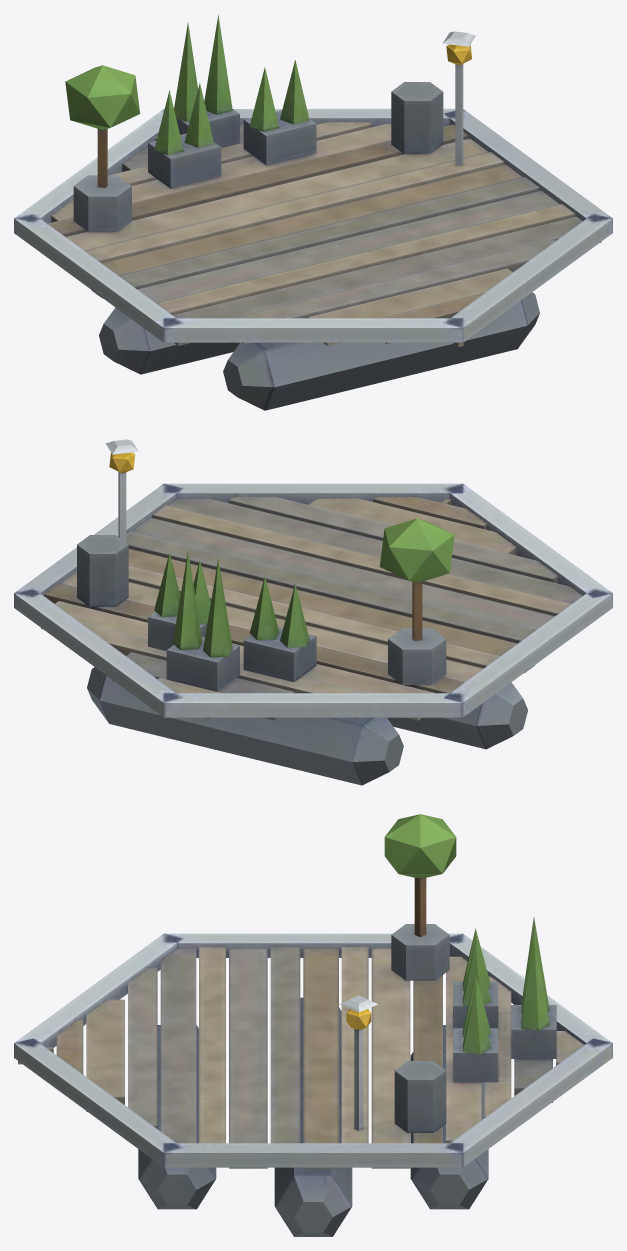
Rendered from raft-d-age20-lite.glb.
The picture shows the model from 3 angles, top to bottom: view 1: azimuth 30°, elevation 25°; view 2: azimuth 150°, elevation 25°; view 3: azimuth 270°, elevation 25°; orthographic projection.
Parts seen in each view (by area): view 1: raft-d-age20-lite; view 2: raft-d-age20-lite; view 3: raft-d-age20-lite.
Boxes of the visible parts, x1,y1,x2,y2 form: raft-d-age20-lite: (14, 15, 612, 410); raft-d-age20-lite: (14, 439, 612, 785); raft-d-age20-lite: (14, 814, 612, 1236).
Size of the model in its own units: 1.6 by 0.8744 by 1.85.
1 material, 1 textured.
